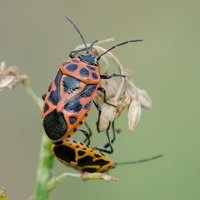insect: (0, 16, 162, 199), (42, 17, 151, 172), (78, 102, 108, 148), (84, 102, 108, 147)
